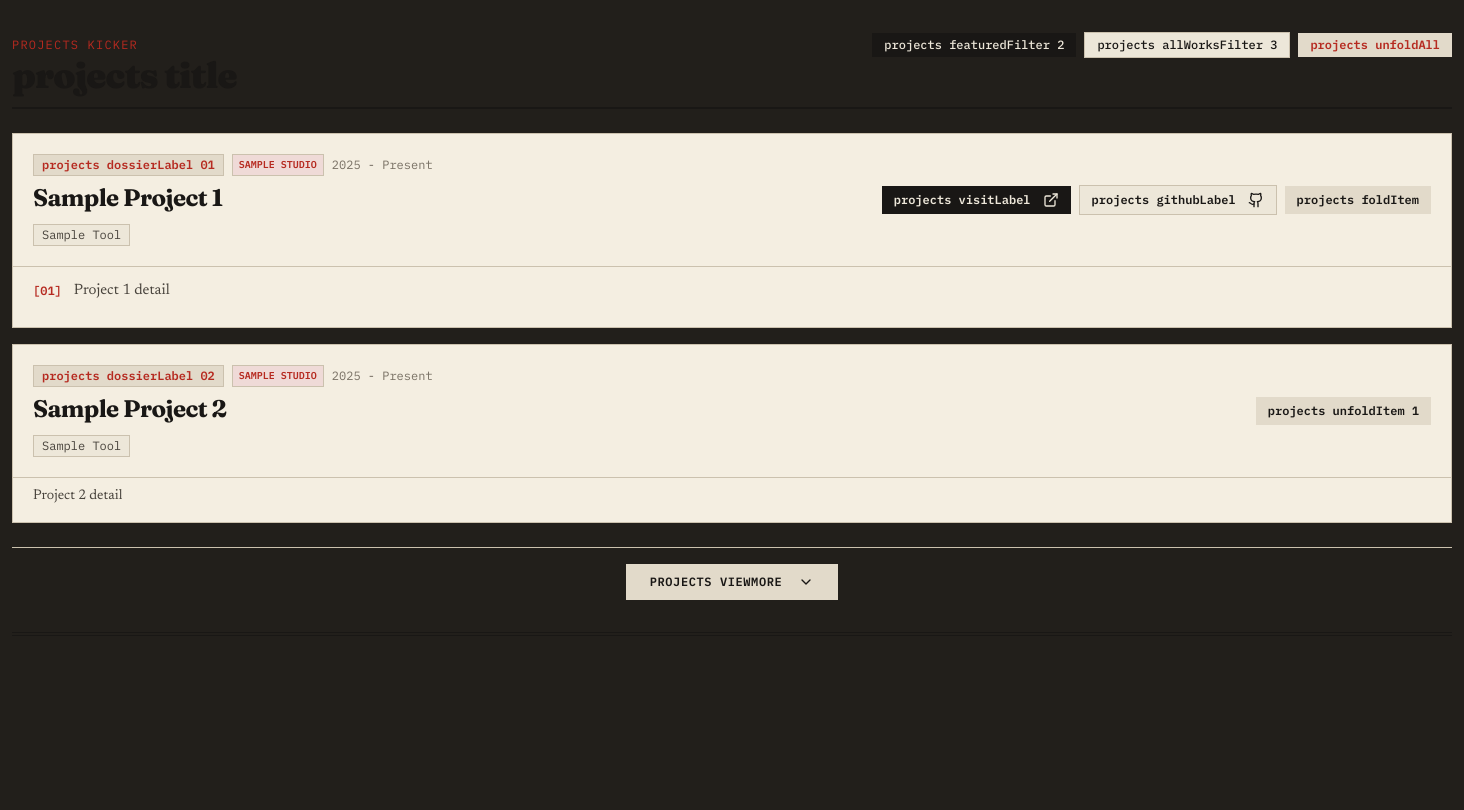
Test case: interactions › reveals additional projects and toggles a featured project independently
expect the button "Sample Project 3" is not shown: met
Click the button "projects viewMore" at (732, 582), box x1=626 y1=564 x2=838 y2=600
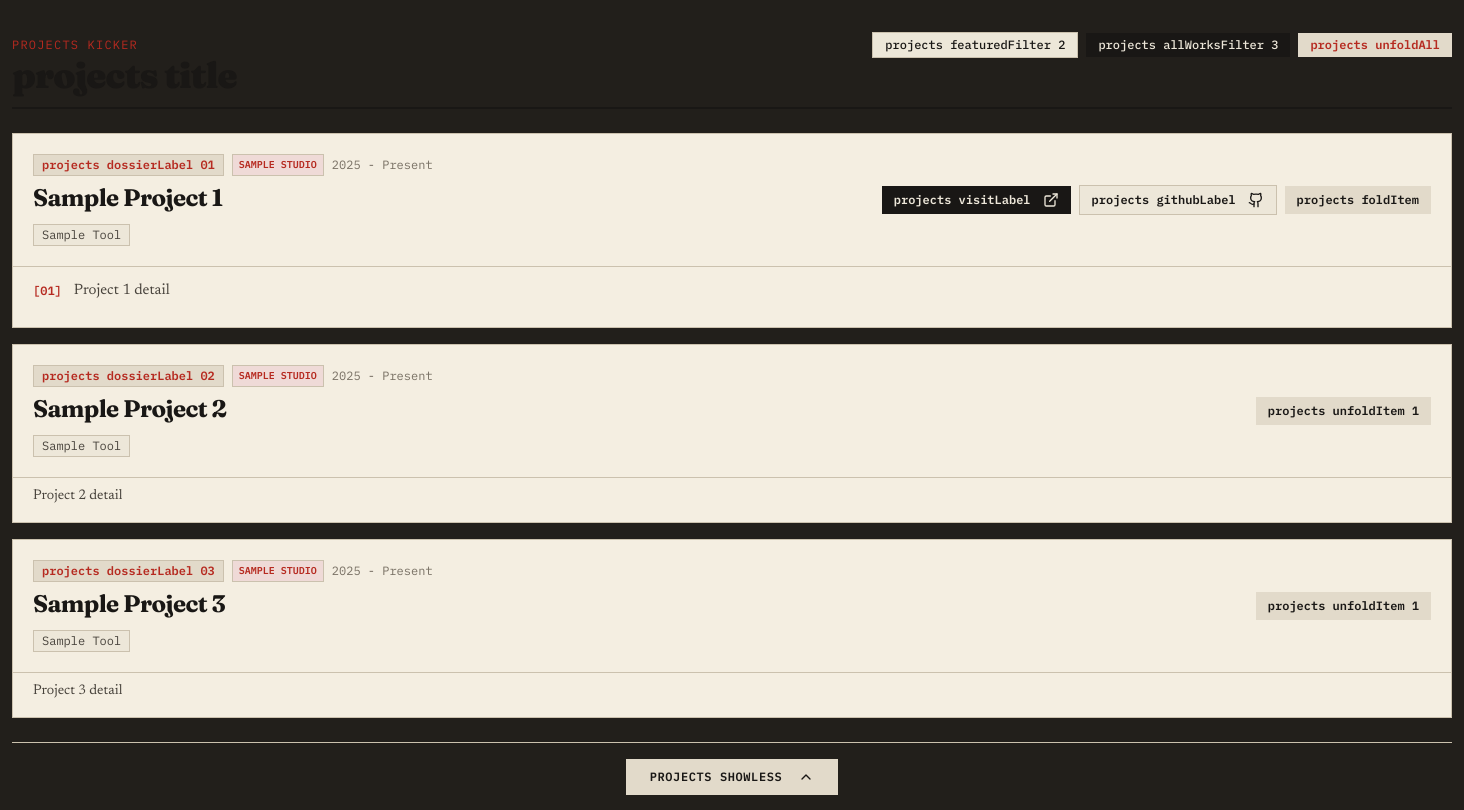
expect the button with aria-label "Sample Project 3" is shown: met, box x1=1256 y1=592 x2=1431 y2=620
Click the button with aria-label "Sample Project 1" at (1358, 200), box x1=1285 y1=186 x2=1431 y2=214
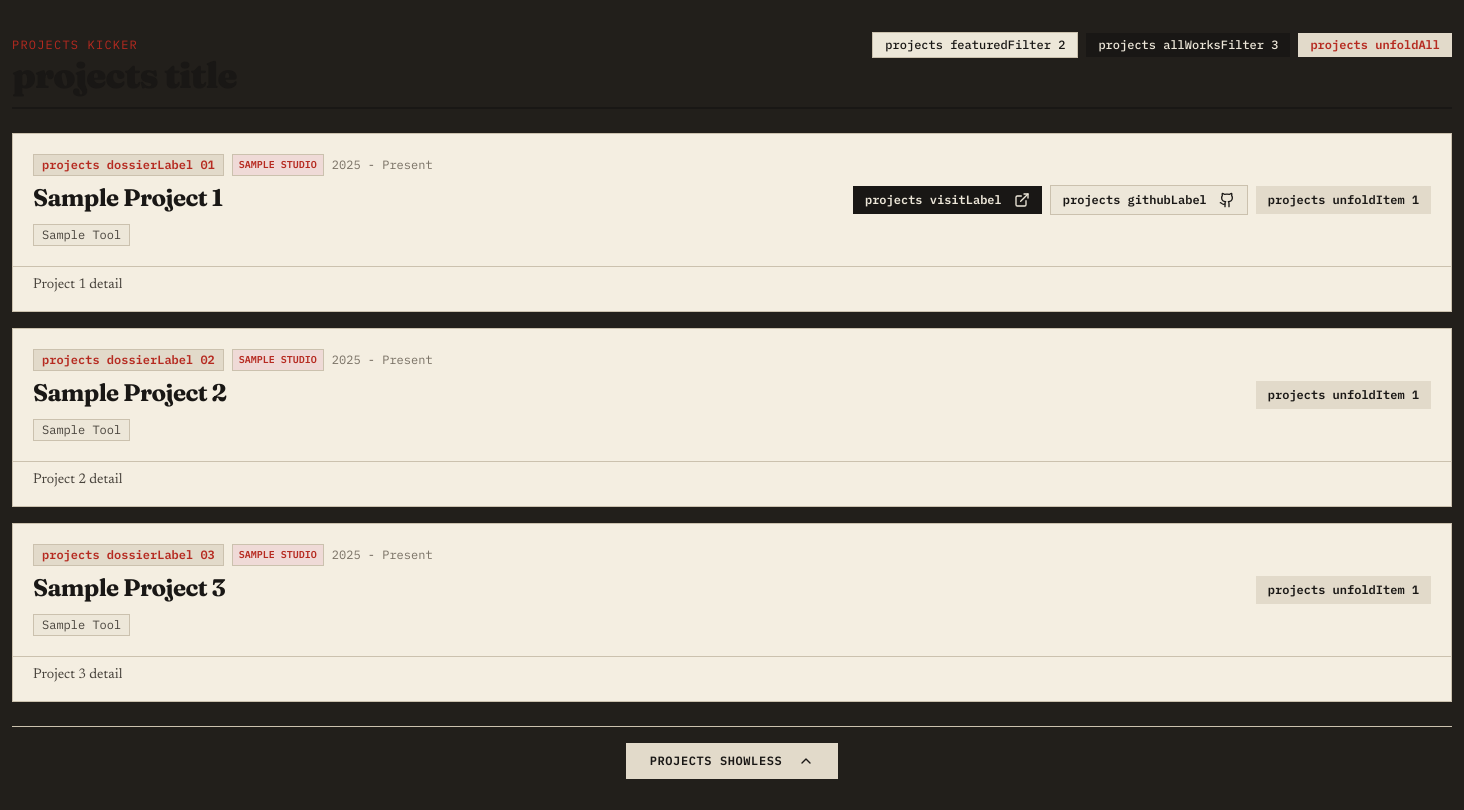
expect the button with aria-label "Sample Project 1" is collapsed: met
Click the button with aria-label "Sample Project 1" at (1343, 200), box x1=1256 y1=186 x2=1431 y2=214
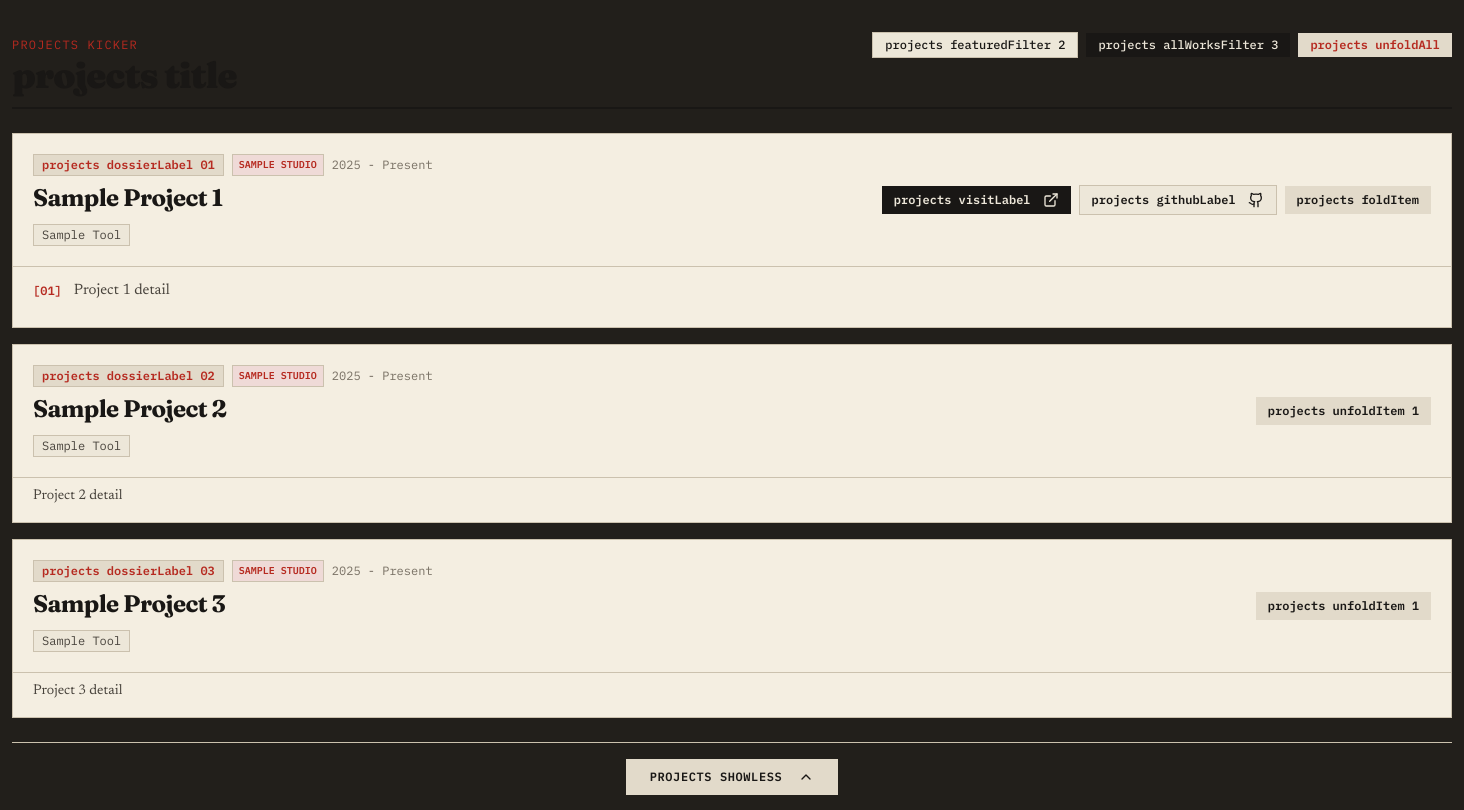
expect the button with aria-label "Sample Project 1" is expanded: met, box x1=1285 y1=186 x2=1431 y2=214
Click the button "projects showLess" at (732, 777), box x1=626 y1=759 x2=838 y2=795
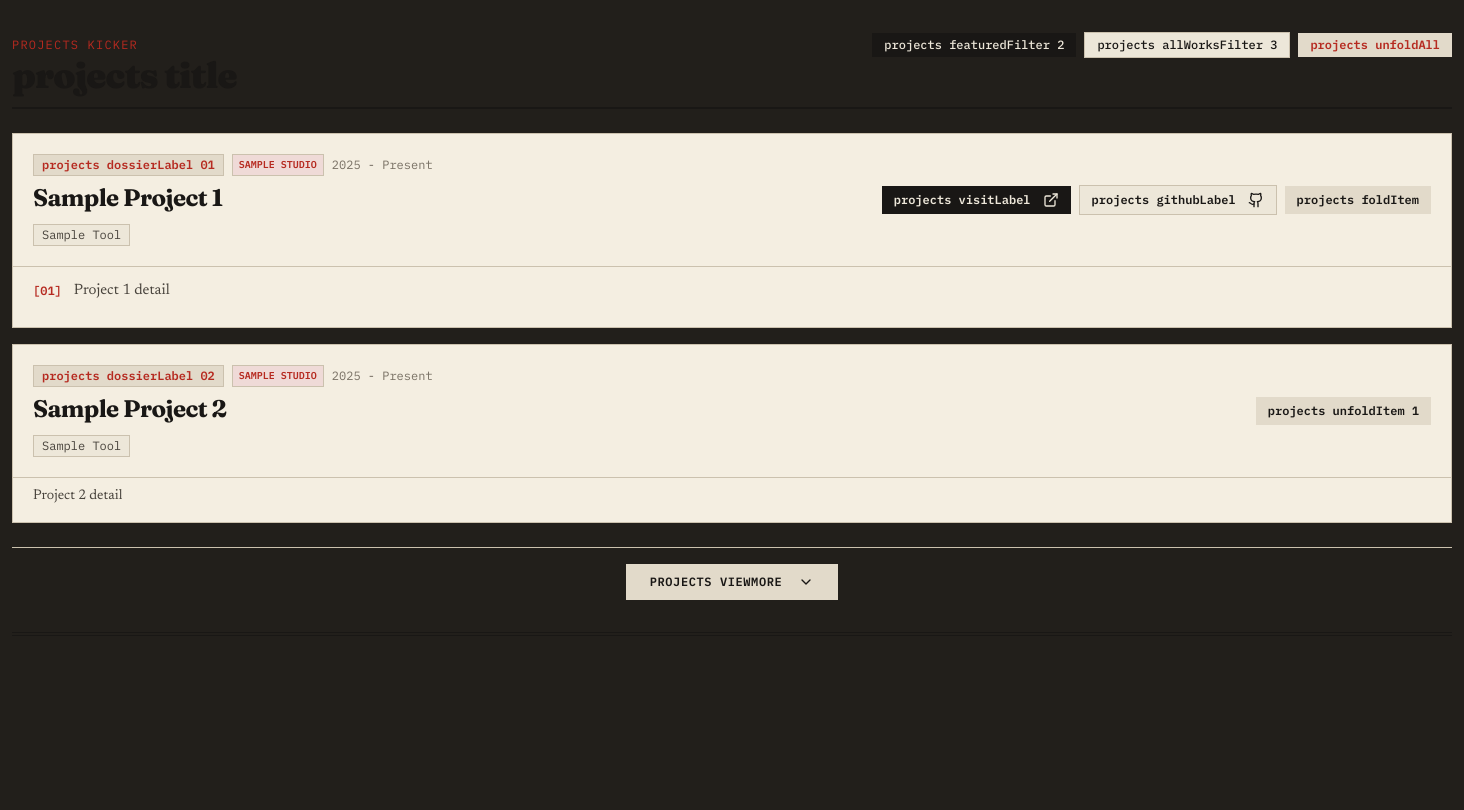
expect the heading "Sample Project 3" is gone: met
